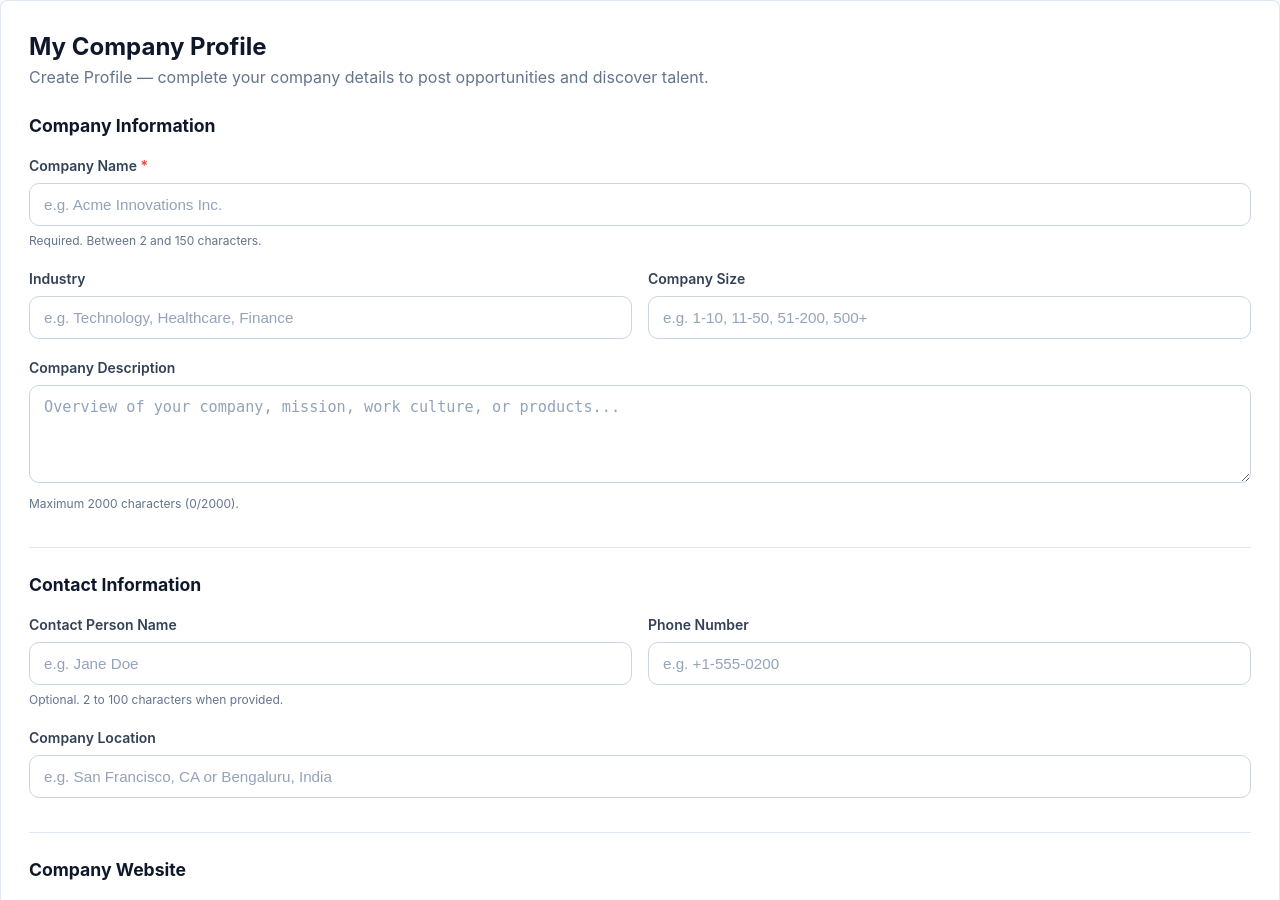
Test: RecruiterProfilePage — Comprehensive F-04 Scenarios › Client-Side Form Validation › validates company_website: allows valid http/https URLs and empty URLs, rejects malformed schemes
Type "Acme Inc." into the field labelled "Company Name *" at (640, 205), box [29, 183, 1251, 226]
(page scrolled)
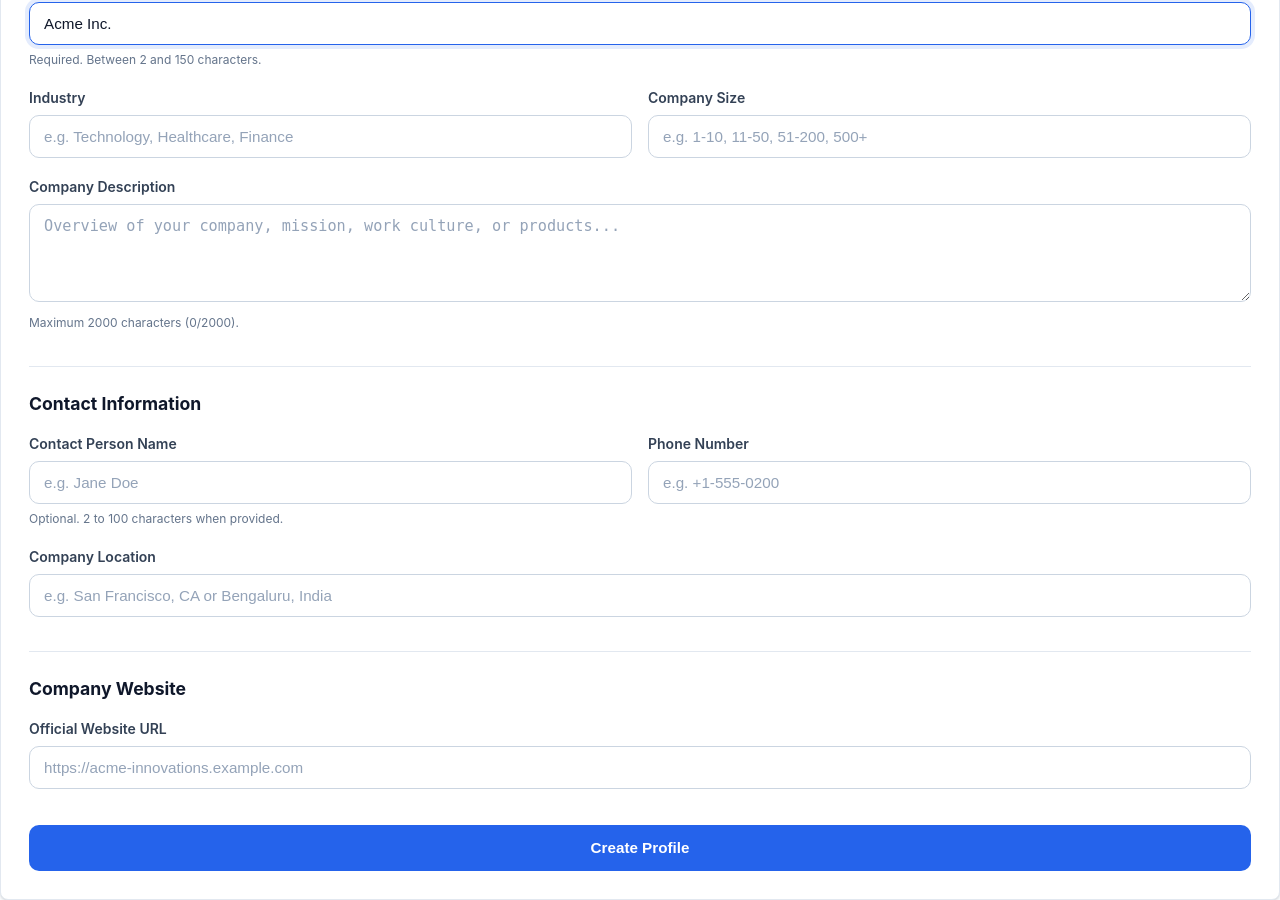
Type "ftp://acme.org" into the field labelled "Official Website URL" at (640, 768), box [29, 746, 1251, 789]
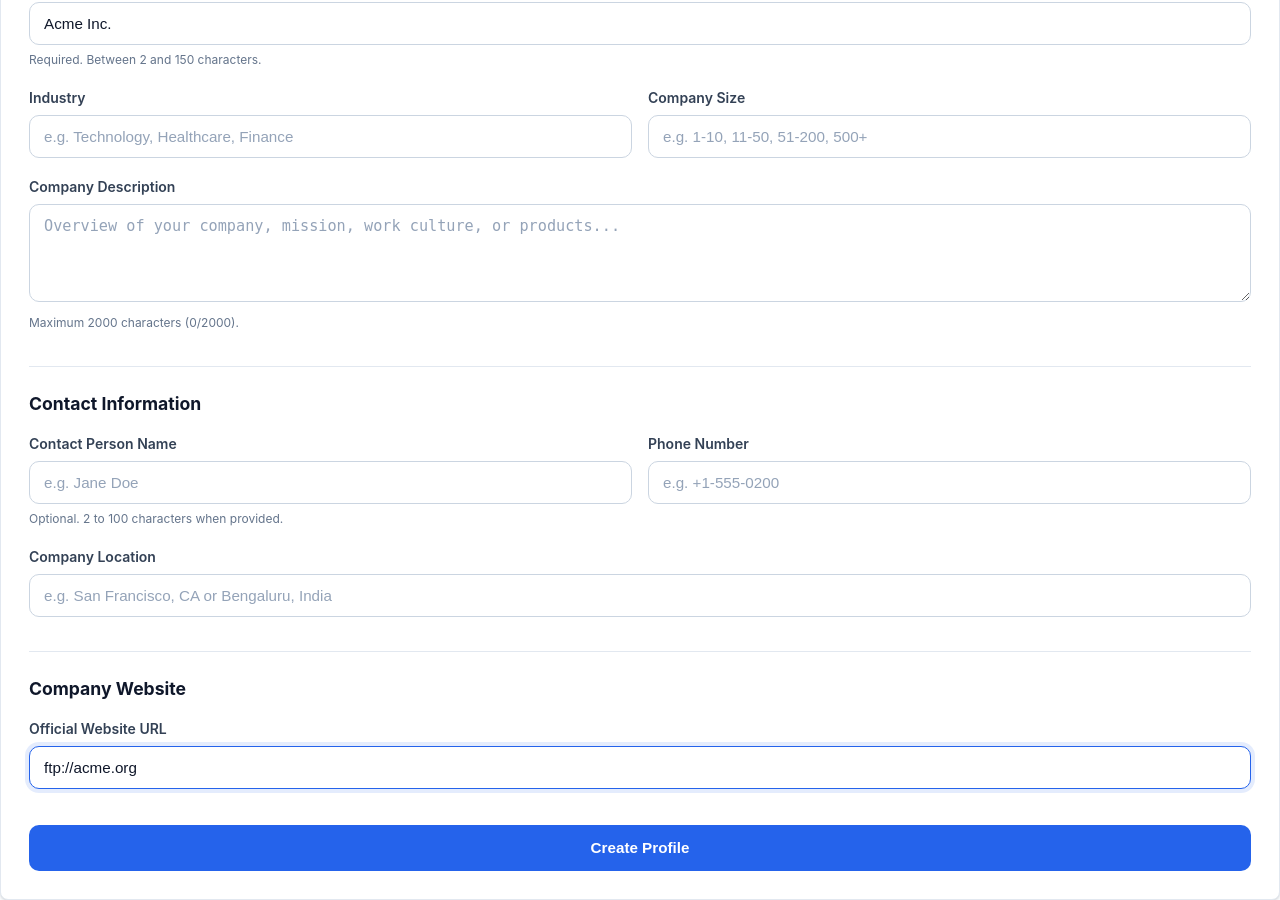
Click the button "Create Profile" at (640, 848), box [29, 825, 1251, 871]
(page scrolled)
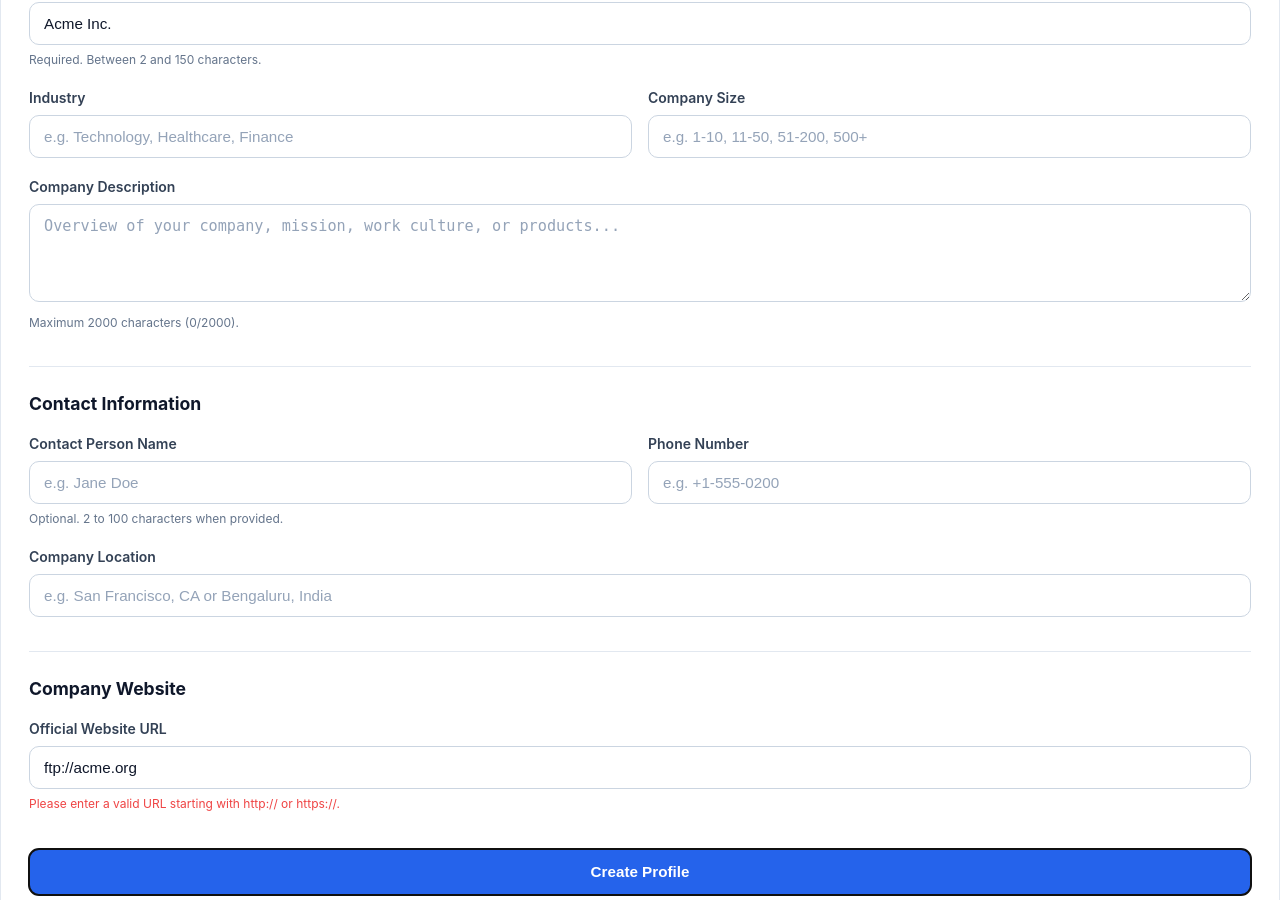
Expected: the text "Please enter a valid URL starting with http:// or https://." is shown, [29, 796, 340, 810]
Note: Malformed URL
Replace the text in the field labelled "Official Website URL" with "not-a-valid-url" at (640, 768), box [29, 746, 1251, 789]
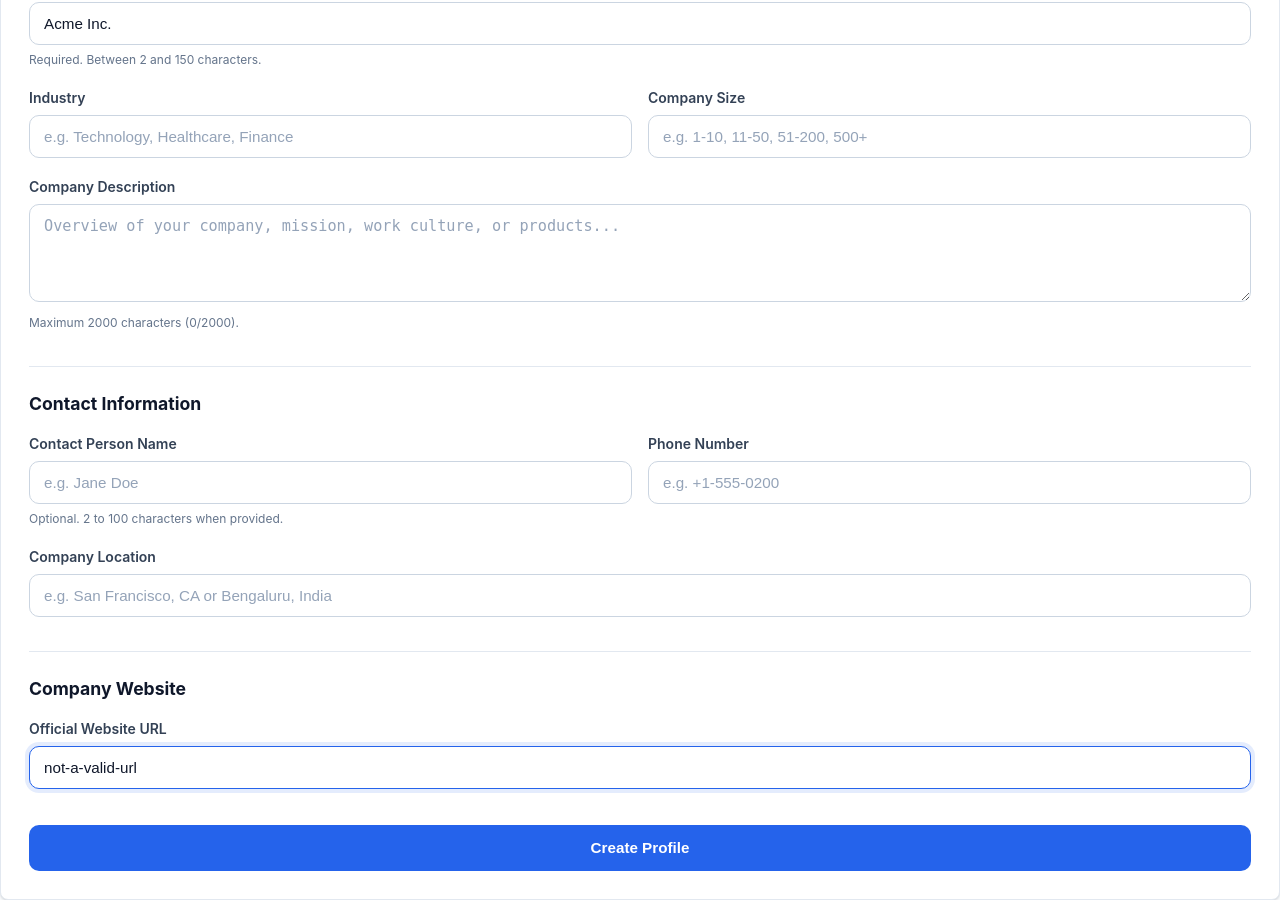
Click the button "Create Profile" at (640, 848), box [29, 825, 1251, 871]
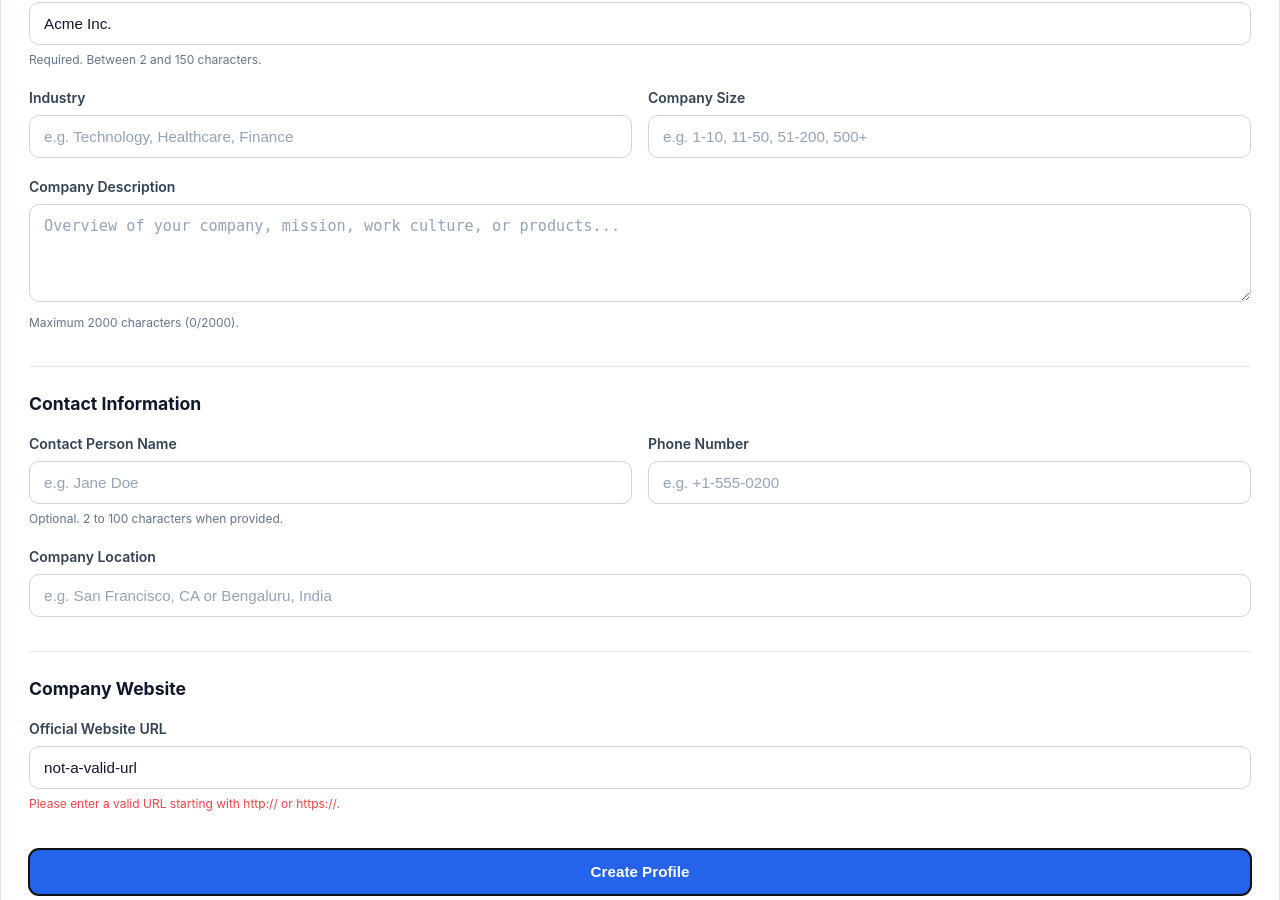
Expected: the text "Please enter a valid URL starting with http:// or https://." is shown, [29, 796, 340, 810]
Note: Clear field (empty optional URL should remove error)
Clear the field labelled "Official Website URL" at (640, 768), box [29, 746, 1251, 789]
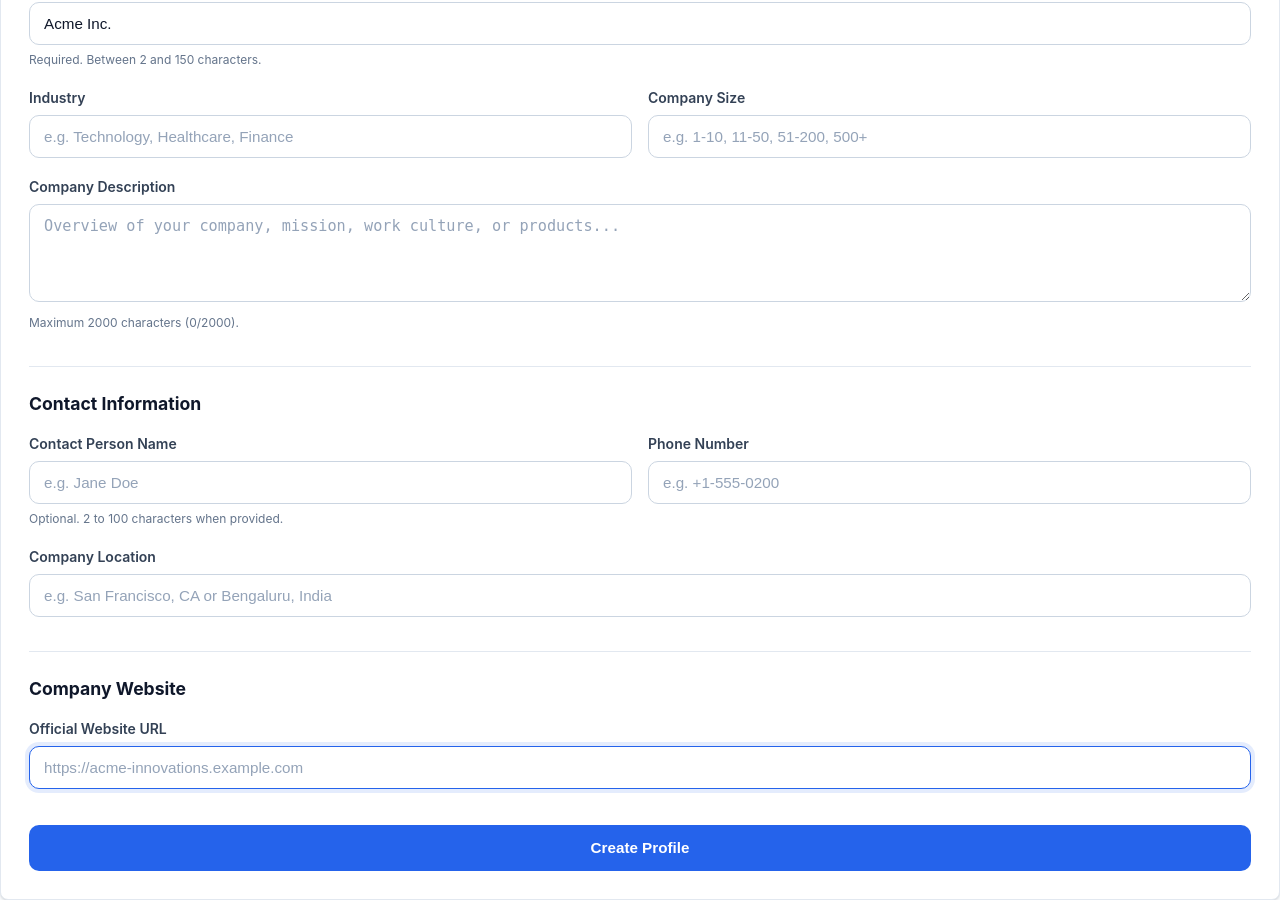
Expected: the text "Please enter a valid URL starting with http:// or https://." is gone
